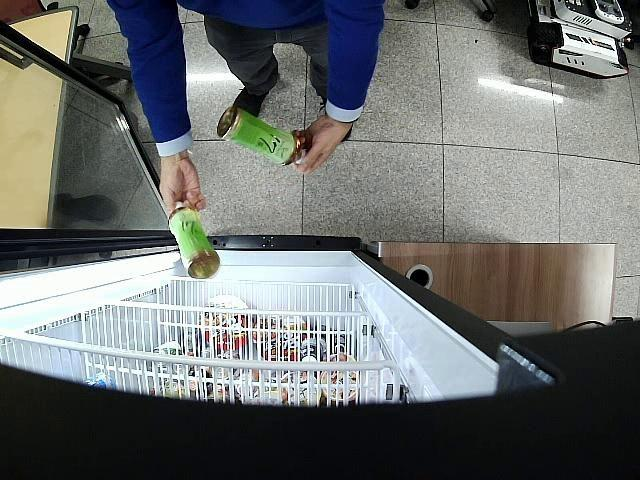19_17cha: (217, 107, 307, 167), (168, 200, 220, 278)
